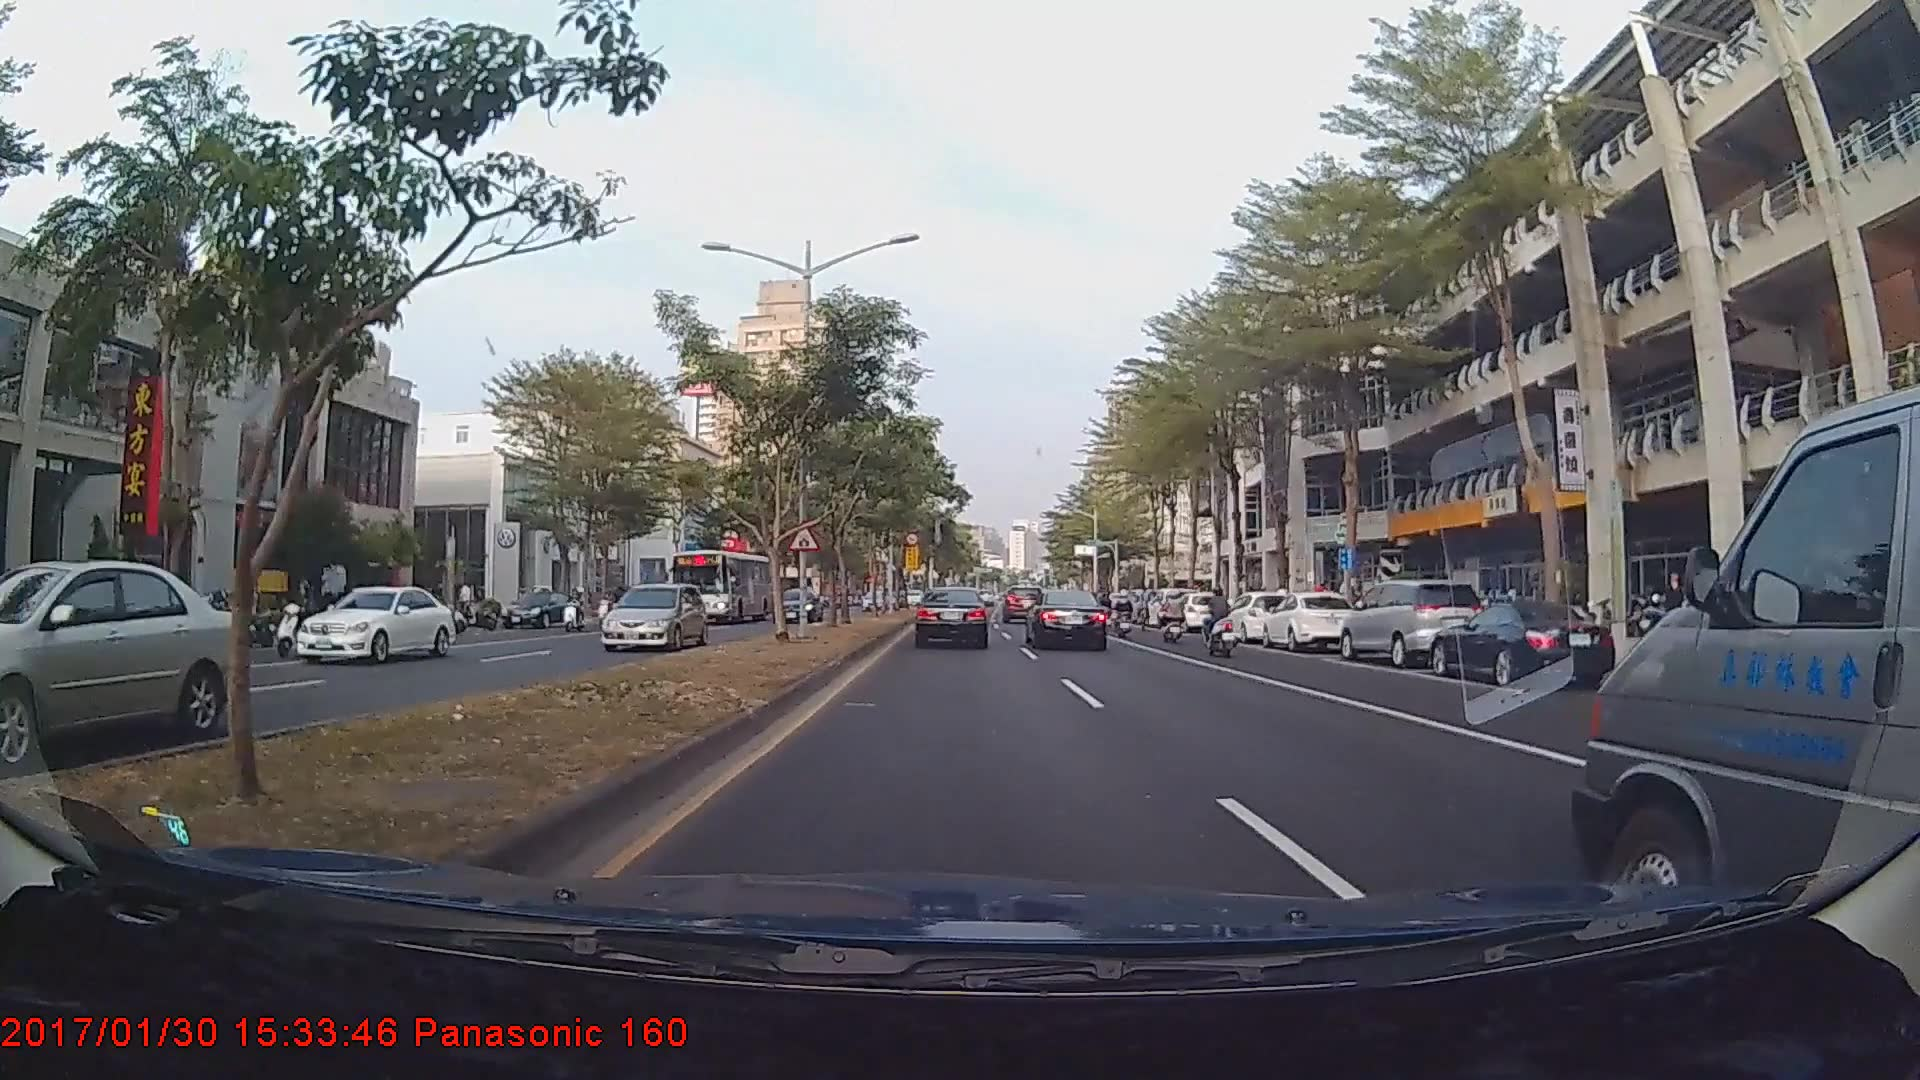rider: (272, 578, 329, 656), (1198, 582, 1247, 660), (1149, 590, 1200, 646), (561, 584, 591, 633), (1110, 586, 1136, 639)
vehicle: (1585, 426, 1912, 888), (1428, 601, 1616, 687), (1341, 571, 1493, 665), (294, 584, 456, 665), (671, 547, 773, 624), (598, 580, 706, 652), (1260, 587, 1361, 647), (1027, 587, 1109, 651), (916, 585, 989, 648), (1218, 588, 1297, 642), (1169, 589, 1226, 629), (1005, 579, 1046, 618), (771, 588, 818, 622)
